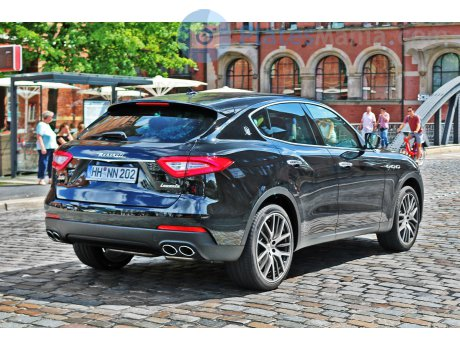License Plates: (90, 165, 137, 179)
